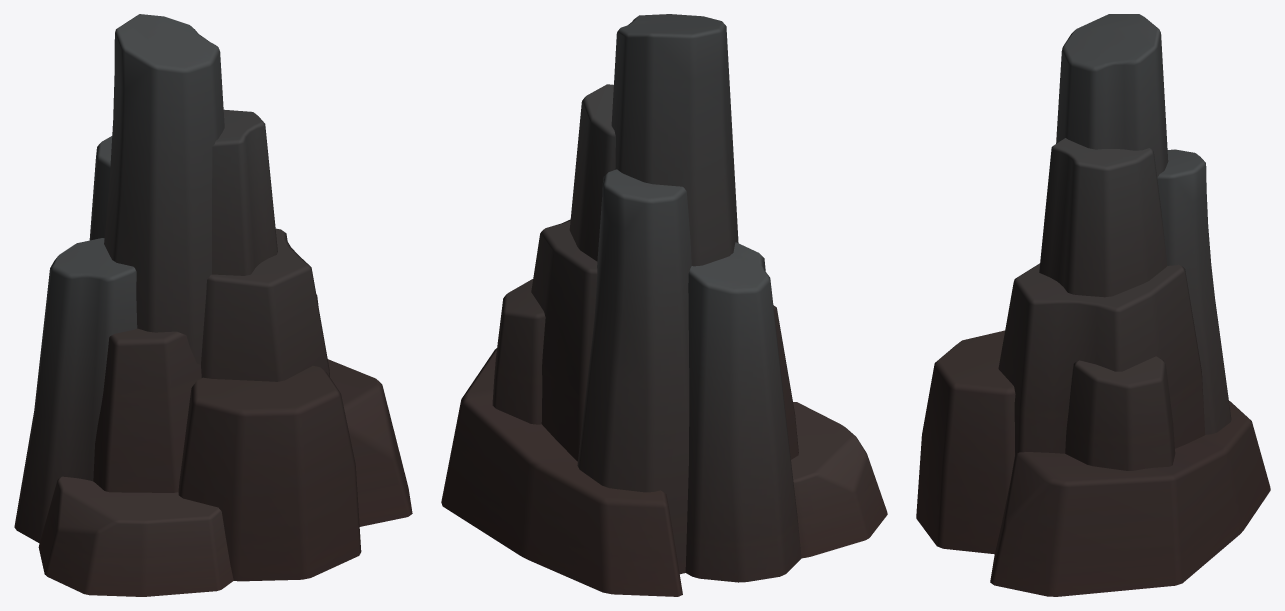
The model's file is inferno-rock-big-004.glb.
3 views of the same model, side by side, from view 1: azimuth 30°, elevation 25°; view 2: azimuth 150°, elevation 25°; view 3: azimuth 270°, elevation 25° (orthographic). The views are drawn at different scales.
Parts seen in each view (by area): view 1: RockBig_004; view 2: RockBig_004; view 3: RockBig_004.
Boxes of the visible parts, <box> form: RockBig_004: <box>14,14,412,596</box>; RockBig_004: <box>441,14,887,596</box>; RockBig_004: <box>916,14,1270,596</box>.
Size of the model in its own units: 29.93 by 38.16 by 26.19.
Materials: 1 (1 with a texture image).
